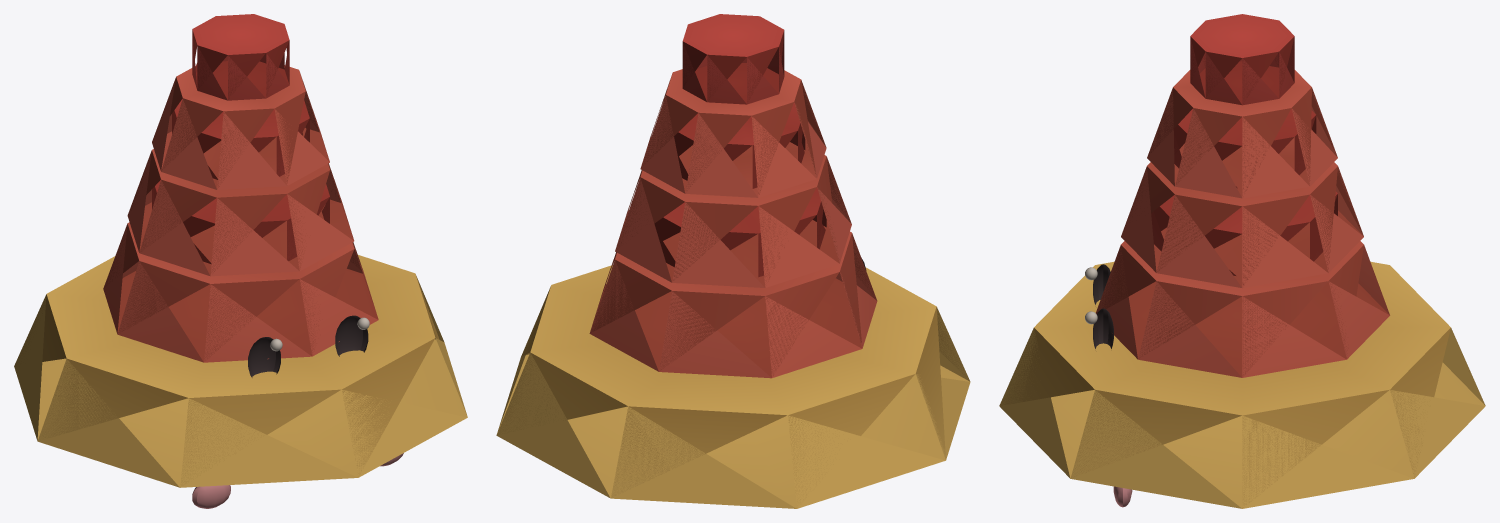
Rendered from pdc5f2def.glb.
The picture shows the model from 3 angles, left to right: view 1: azimuth 30°, elevation 25°; view 2: azimuth 150°, elevation 25°; view 3: azimuth 270°, elevation 25°; orthographic projection. The views are drawn at different scales.
Parts seen in each view (by area): view 1: pet_pdc5f2def; view 2: pet_pdc5f2def; view 3: pet_pdc5f2def.
Part boxes in pixels (x1,y1,x2,y2): pet_pdc5f2def: (14, 14, 467, 508); pet_pdc5f2def: (496, 14, 970, 508); pet_pdc5f2def: (999, 14, 1485, 508).
Bounding box in the file's own units: 0.56 × 0.5389 × 0.56.
